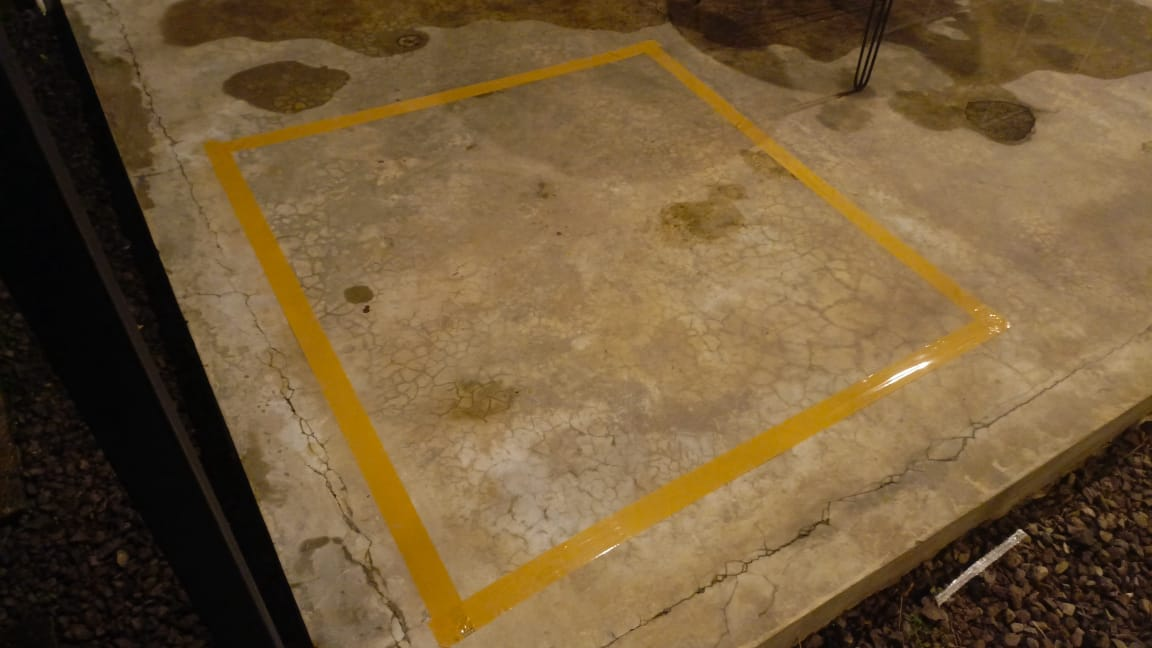floor marking: (204, 41, 1009, 647)
